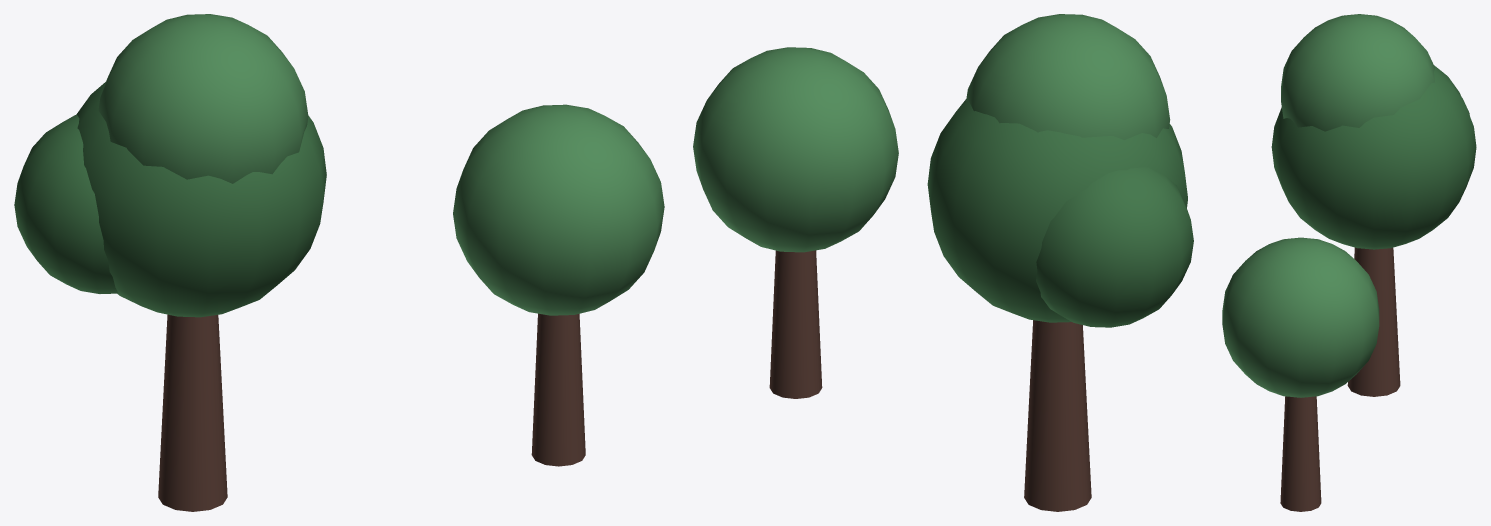
Rendered from tree_set.glb.
The picture shows the model from 3 angles, left to right: view 1: azimuth 30°, elevation 25°; view 2: azimuth 150°, elevation 25°; view 3: azimuth 270°, elevation 25°; orthographic projection. The views are drawn at different scales.
Visible parts, largest first — view 1: tree_set; view 2: tree_set; view 3: tree_set.
Part boxes in pixels (left/top/right/bottom): tree_set: left=14, top=14, right=664, bottom=511; tree_set: left=693, top=14, right=1193, bottom=511; tree_set: left=1222, top=14, right=1476, bottom=511.
Size of the model in its own units: 3.33 by 2.75 by 1.74.
